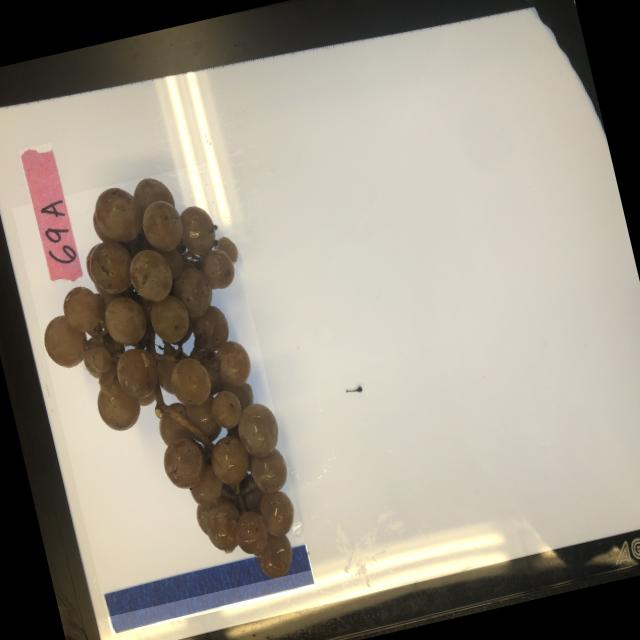grape_cluster: (12, 160, 310, 616)
index: (18, 141, 82, 285)
measure_label: (101, 542, 316, 634)
